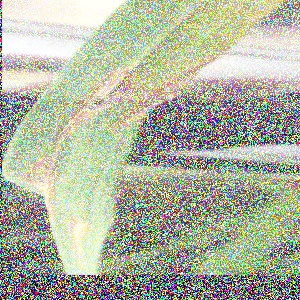Brown_Spot: (119, 53, 218, 119), (62, 55, 141, 130), (8, 138, 71, 209), (53, 206, 93, 260)
